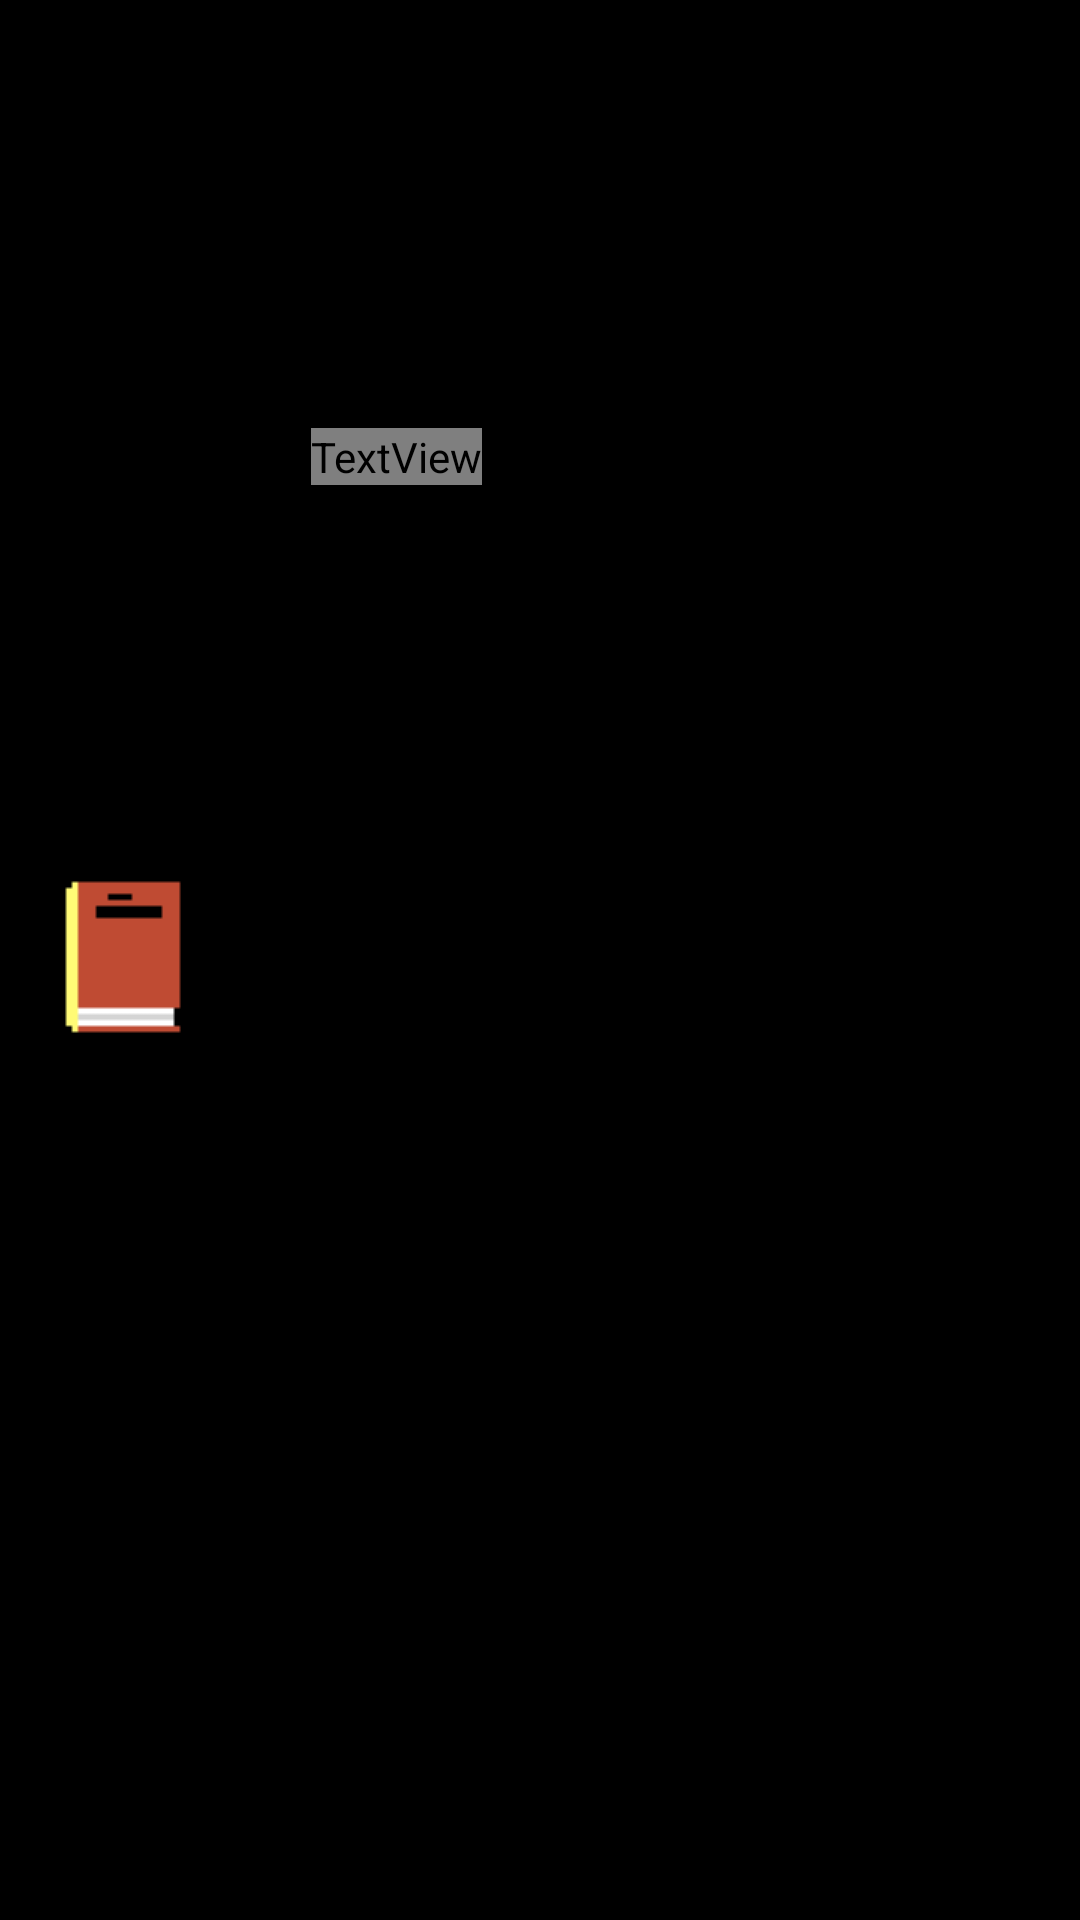

Locate icon controls on the screen. Image size 1080*1920, boxes as (x1, y1, x2, y2).
book: (65, 881, 181, 1033)
